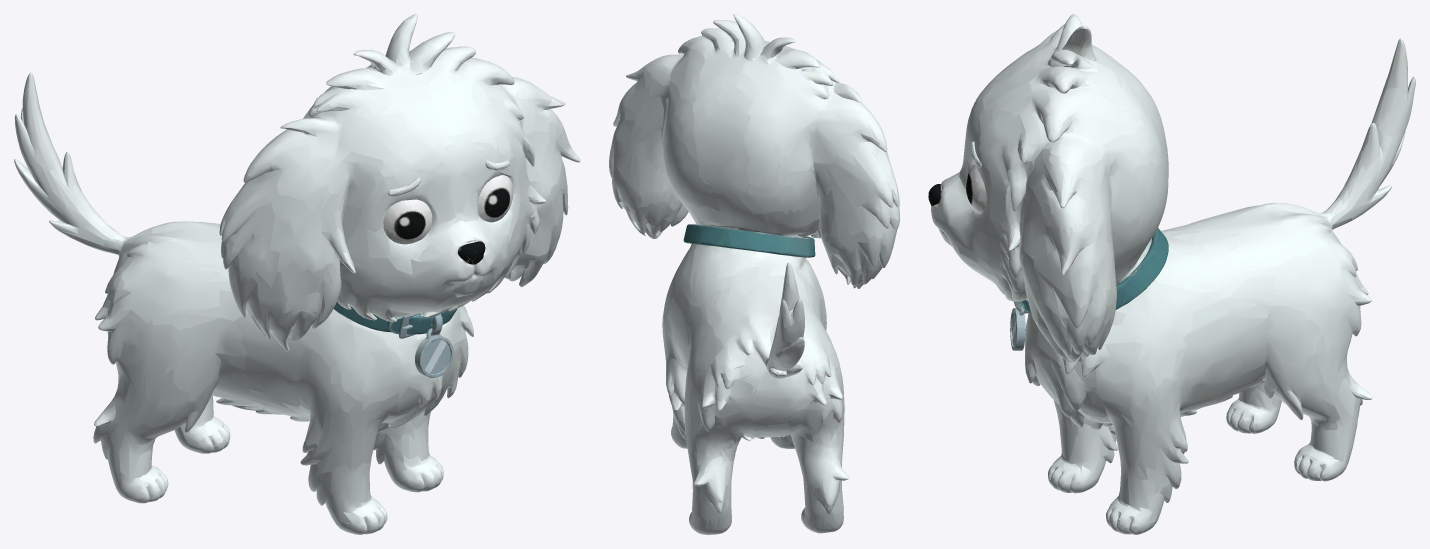
Rendered from snuffles.glb.
The picture shows the model from 3 angles, left to right: view 1: azimuth 30°, elevation 25°; view 2: azimuth 150°, elevation 25°; view 3: azimuth 270°, elevation 25°; orthographic projection. The views are drawn at different scales.
Bounding box in the file's own units: 1.58 × 1.9 × 1.72.
1 material, 1 textured.
